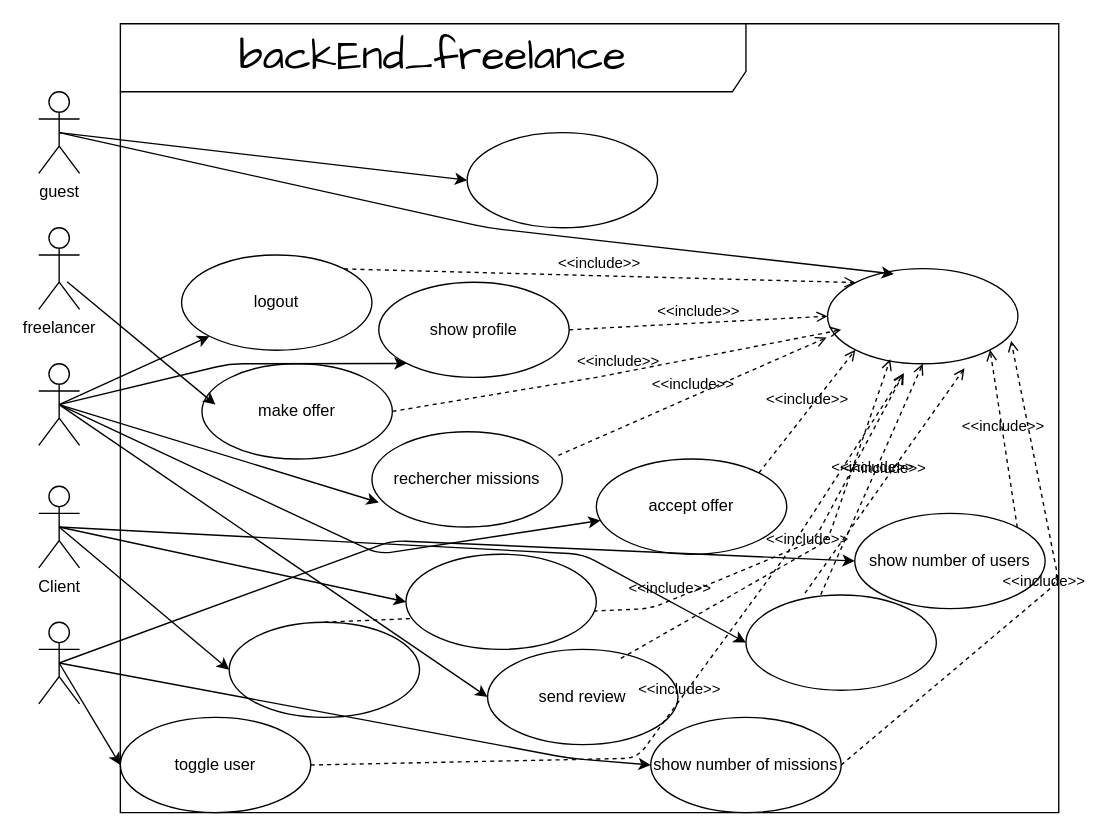
Some shapes in this 1110 by 836 pixel diagram are drawn without their labels. The centre of each missing label's shape, as x and y in pixels:
Admin: point (58, 662)
create mission: point (324, 669)
login: point (922, 315)
refuse offer: point (500, 601)
register: point (562, 179)
show past missions: point (840, 642)
User: point (58, 403)
